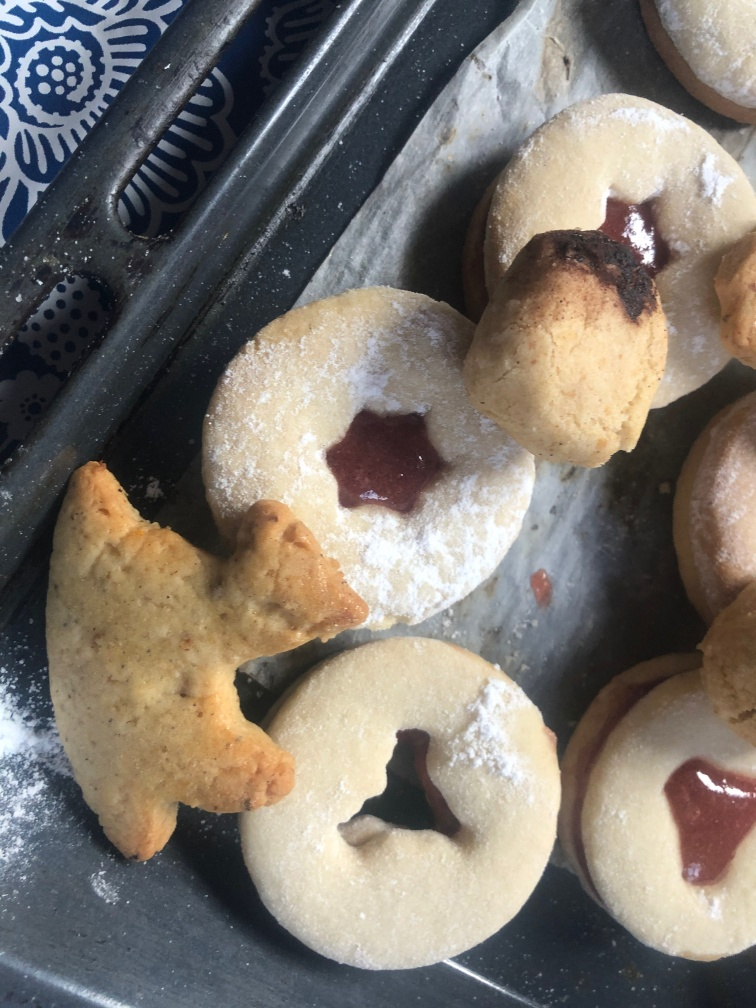christmas shortbread with jam: (200, 285, 534, 630), (245, 639, 561, 970), (484, 93, 756, 404), (566, 654, 756, 966)
lamb: (40, 461, 369, 859)
snowball: (464, 226, 669, 472)
